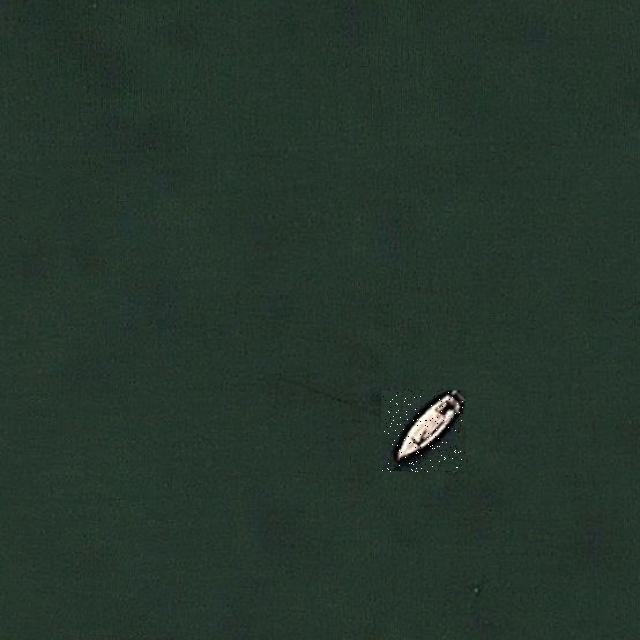boat: (382, 389, 465, 472)
